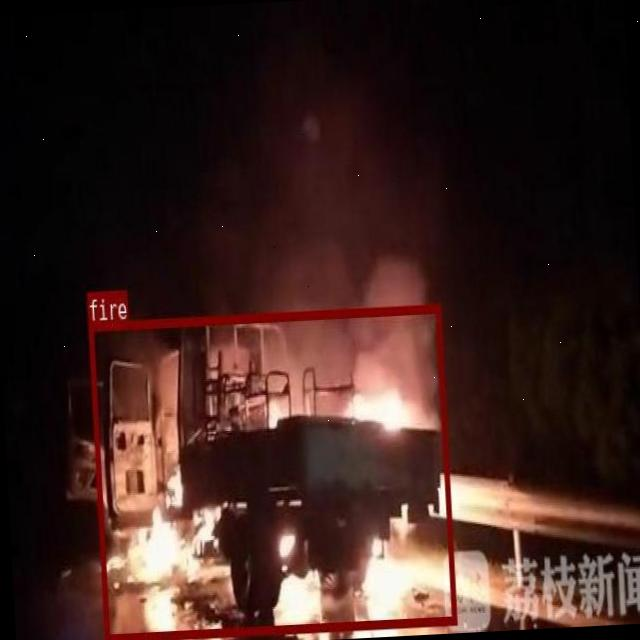fire: (88, 302, 456, 640)
